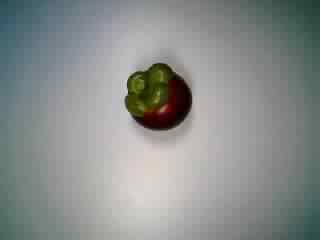mangosteen: (119, 60, 193, 132)
